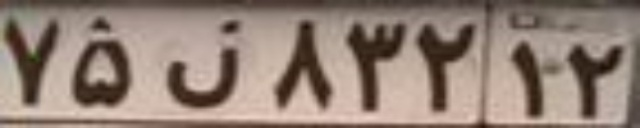1: (506, 39, 545, 115)
2: (415, 22, 477, 110), (566, 42, 624, 116)
3: (344, 21, 404, 111)
5: (68, 15, 135, 106)
7: (2, 13, 62, 106)
8: (270, 18, 331, 110)
lam: (159, 18, 240, 107)
